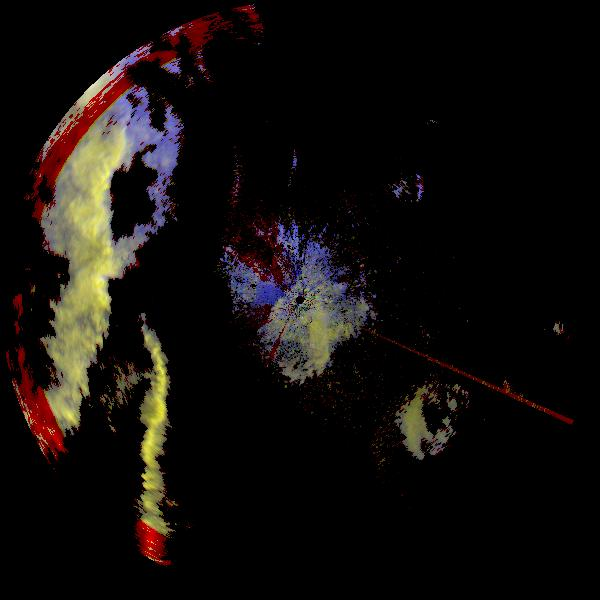roost: (386, 358, 524, 496)
